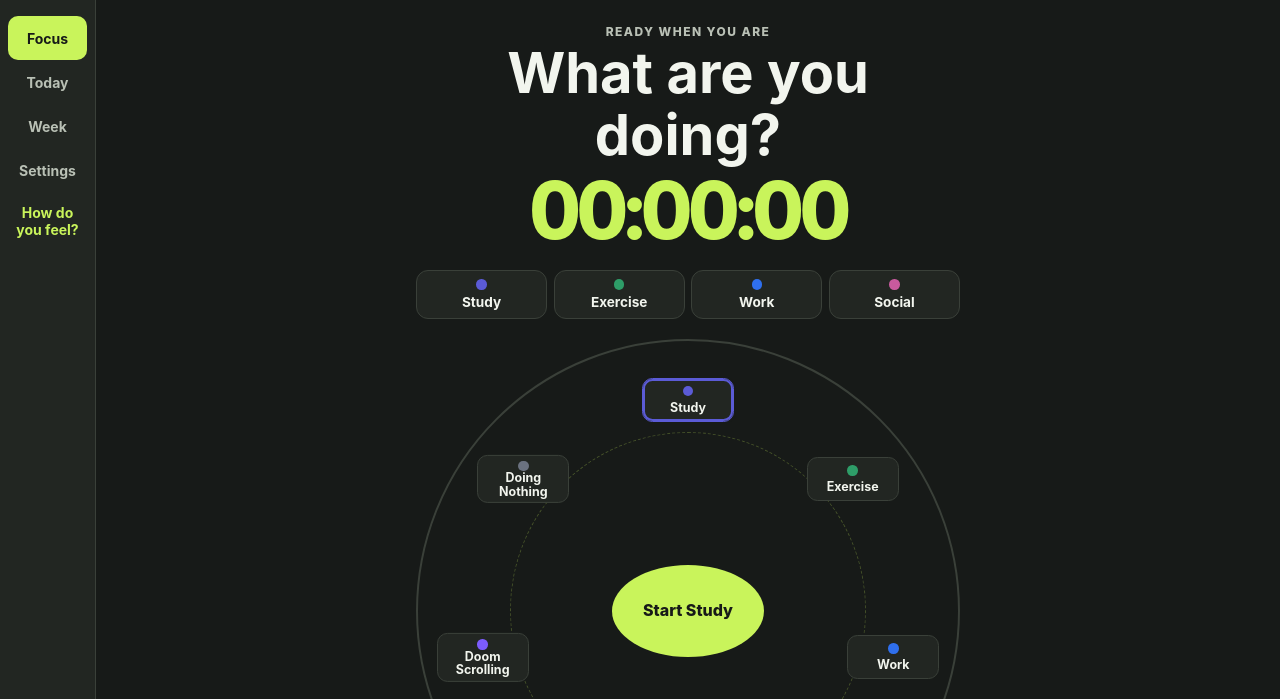
Test: DataTransferPanel › keeps the global emotion action available from Settings
Click the button "Settings". click: (48, 170)
box: [8, 148, 87, 192]
(page scrolled)
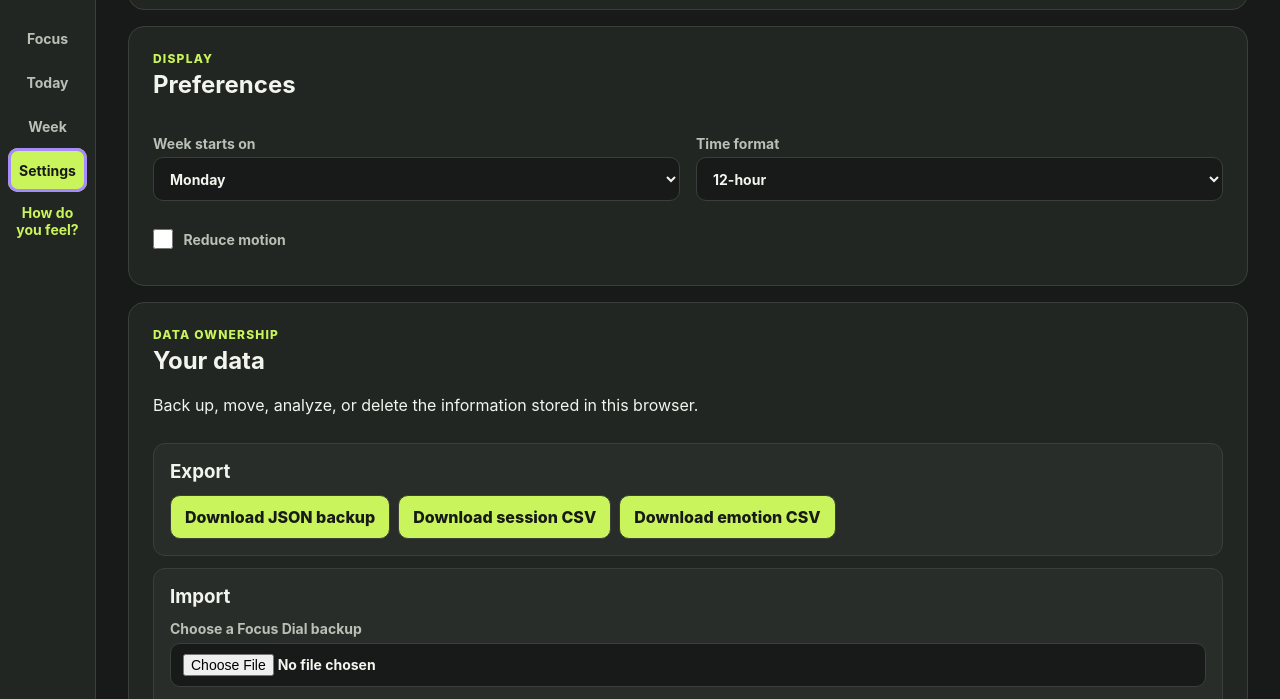
Check: the button "How do you feel?" is shown, box [8, 192, 87, 250]
Check: the heading "Your data" is shown, box [153, 346, 265, 375]
